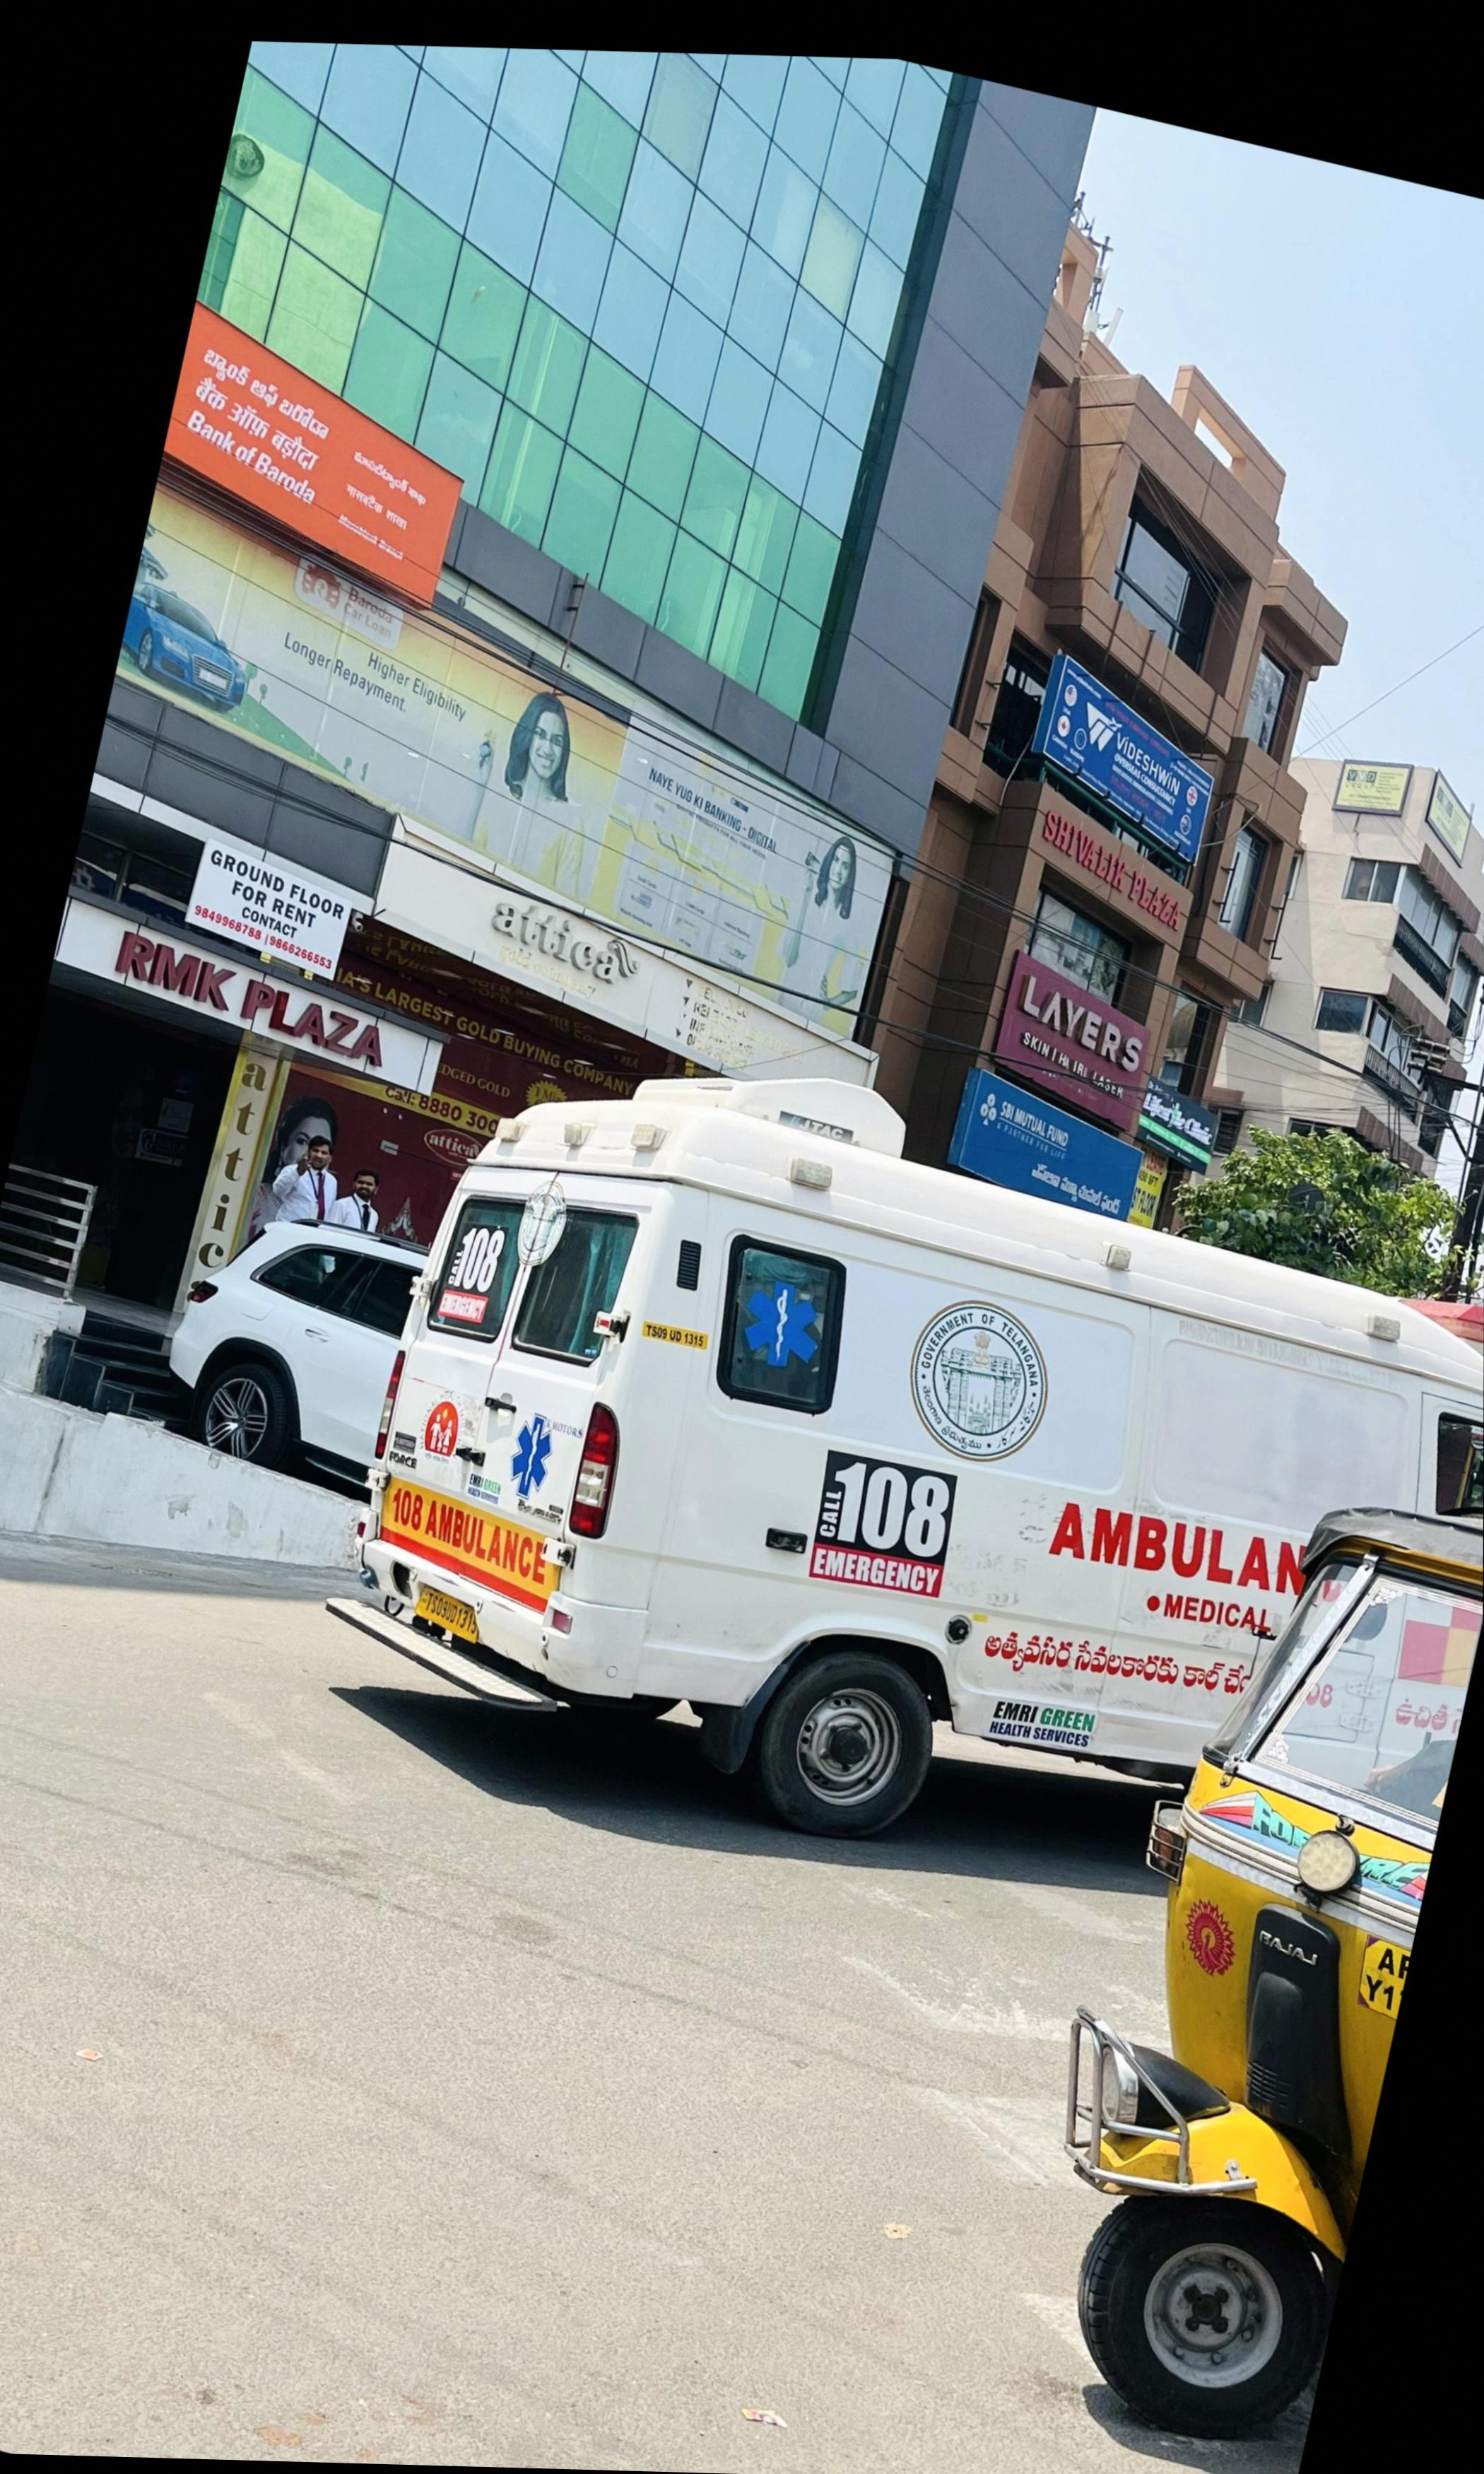ambulance: (371, 1076, 1482, 1848)
